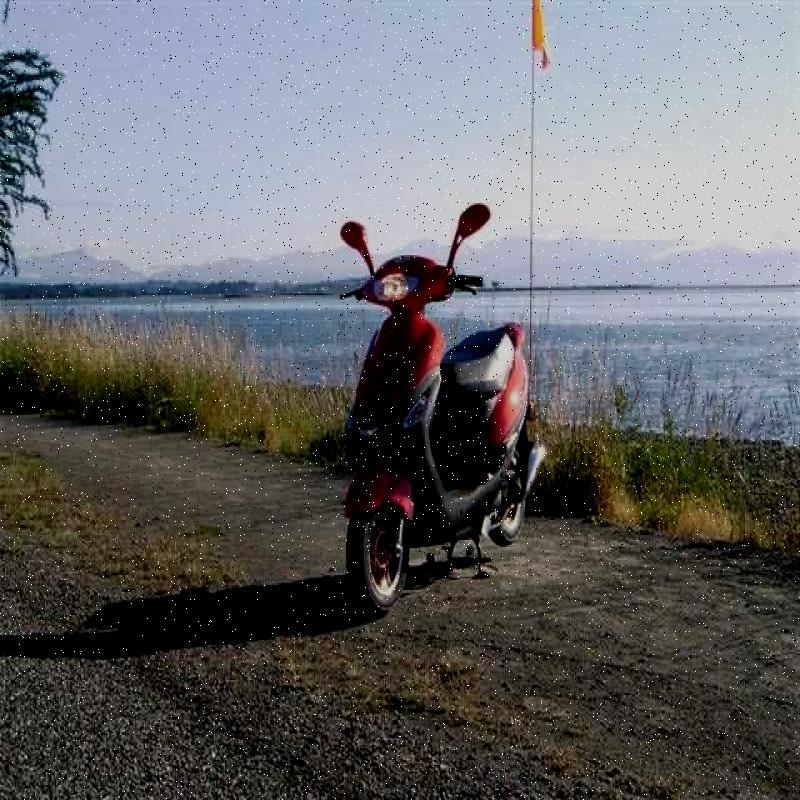bike: (332, 155, 568, 612)
